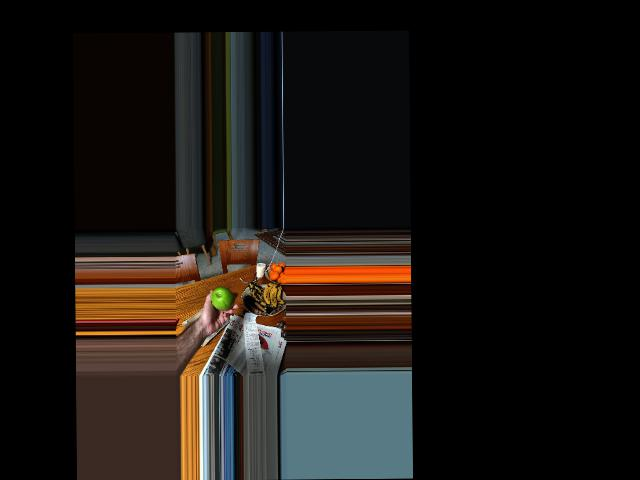apple: (210, 287, 234, 311)
